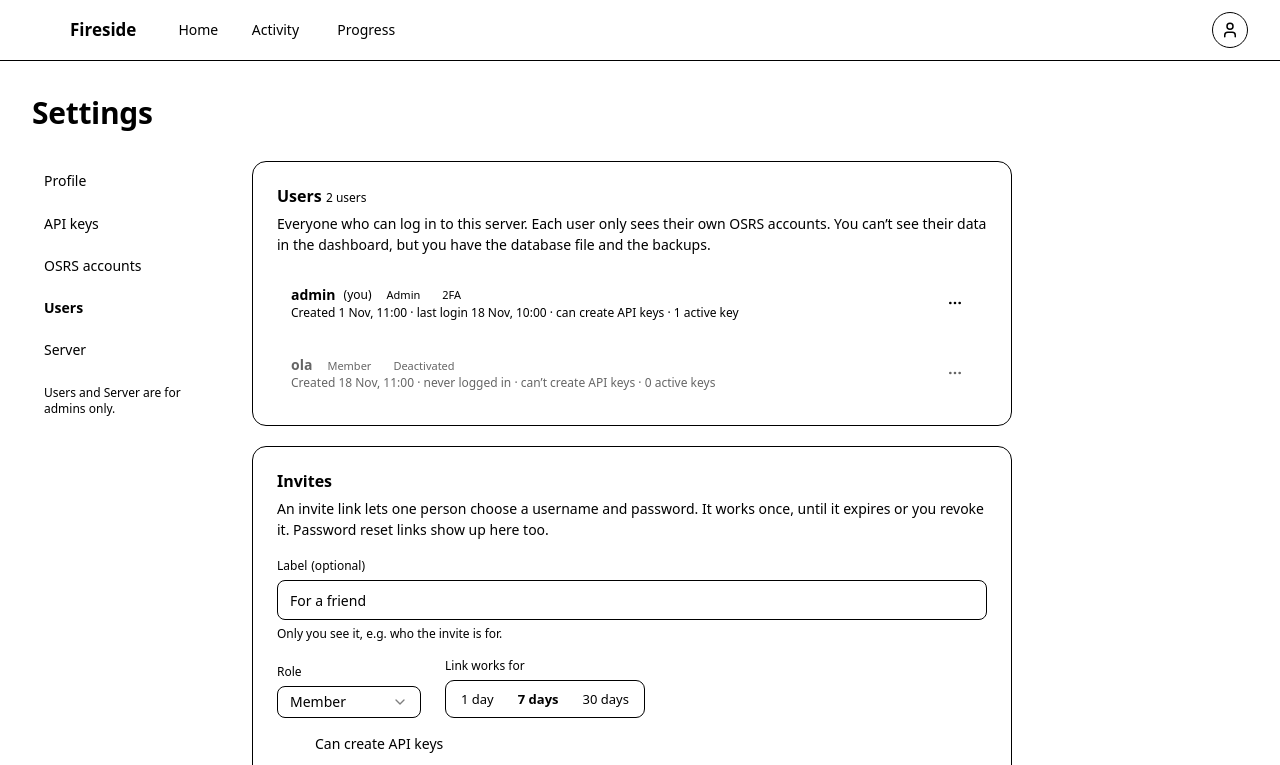
Test: Settings → Users › shows the last-admin refusal
The width and height of the screenshot is (1280, 765).
Click the button named "Actions for admin": (955, 303) [937,285,973,321]
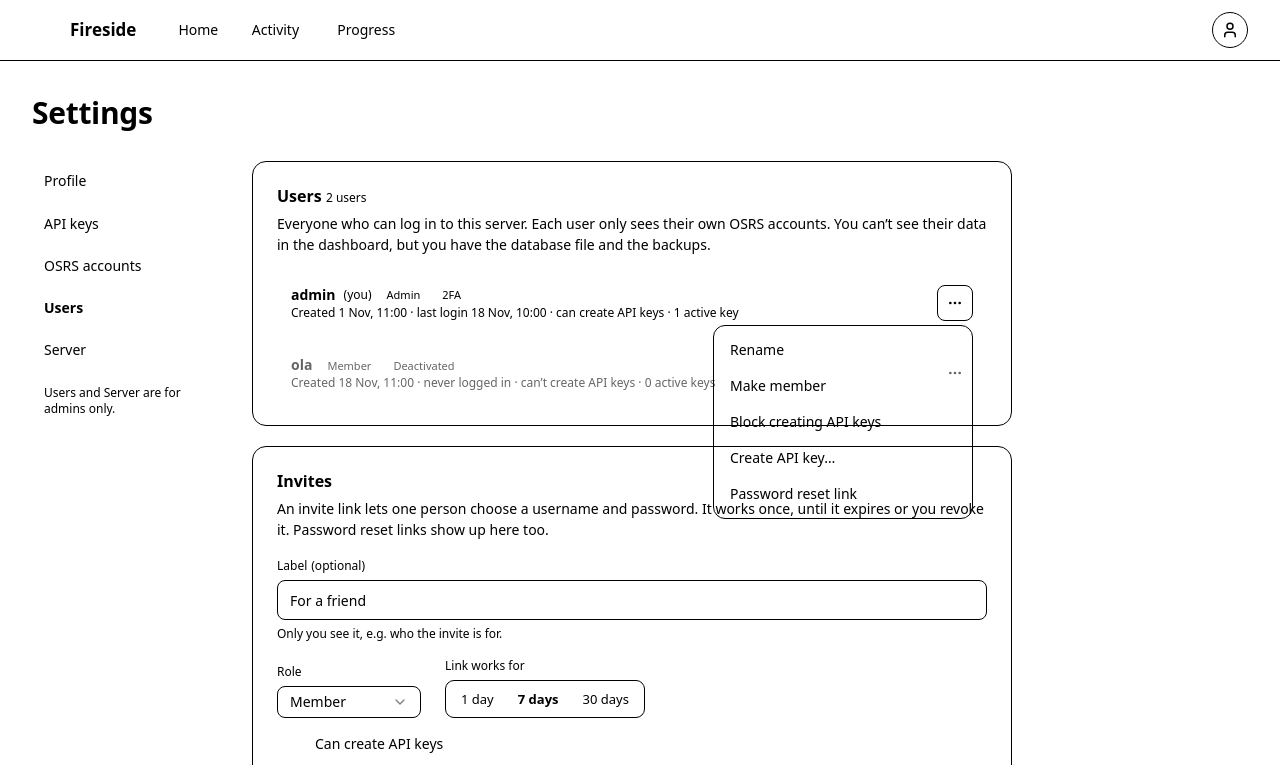
Check: the menu item "Delete" is not shown
Click the menu item "Make member": (778, 386) [730,376,826,395]
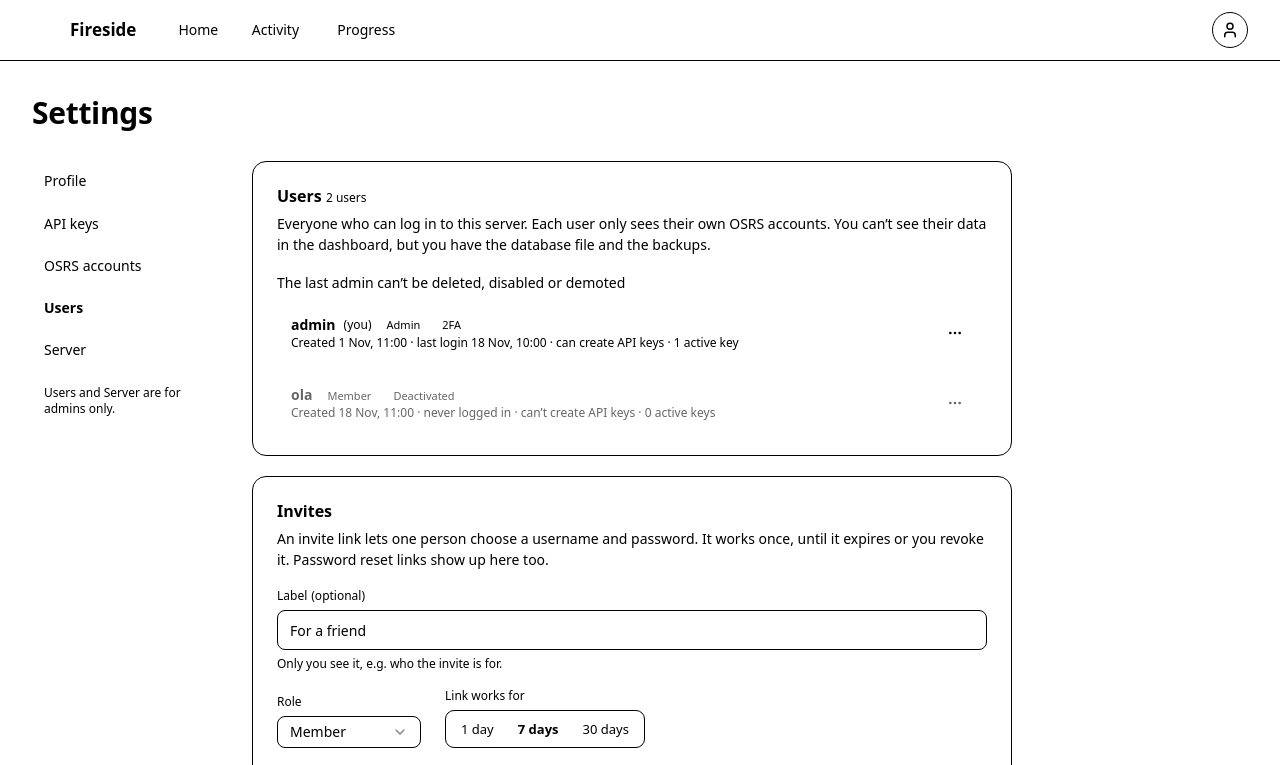
Check: the message reads "The last admin can’t be deleted, disabled or demoted", box [277,273,625,292]
